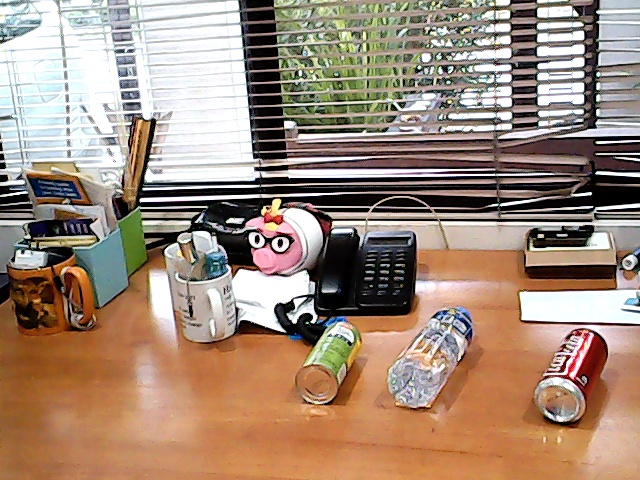Cola: (525, 310, 618, 449)
Pine Juice: (278, 303, 372, 414)
Summit Water: (379, 298, 486, 425)
